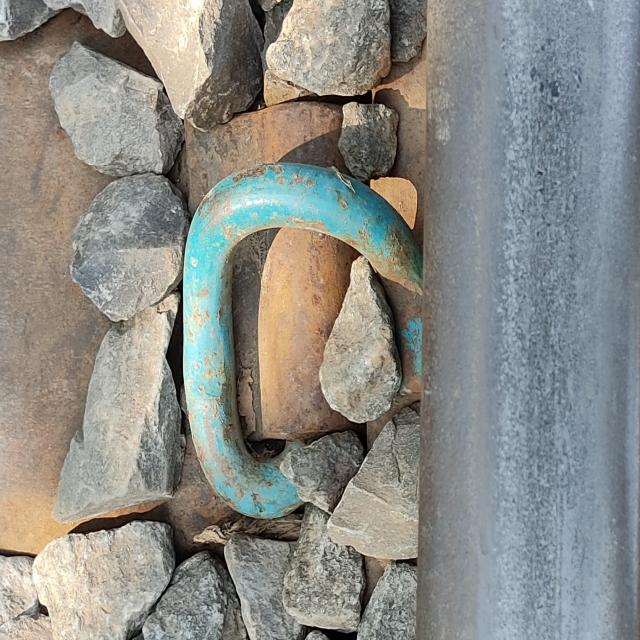track_bolt: (172, 150, 427, 532)
